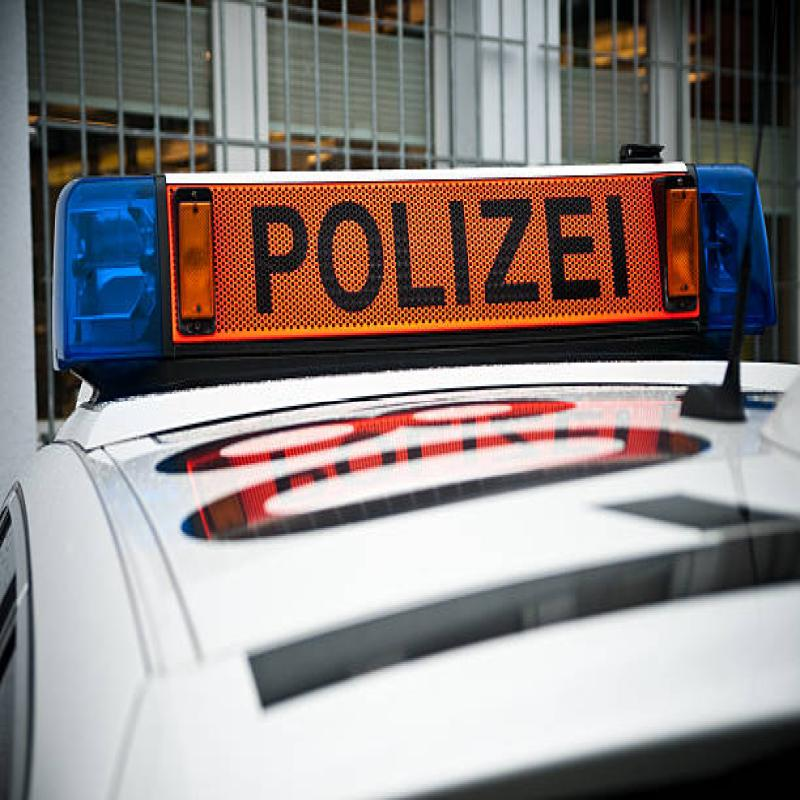AmbulanceSiren: (34, 149, 786, 380)
